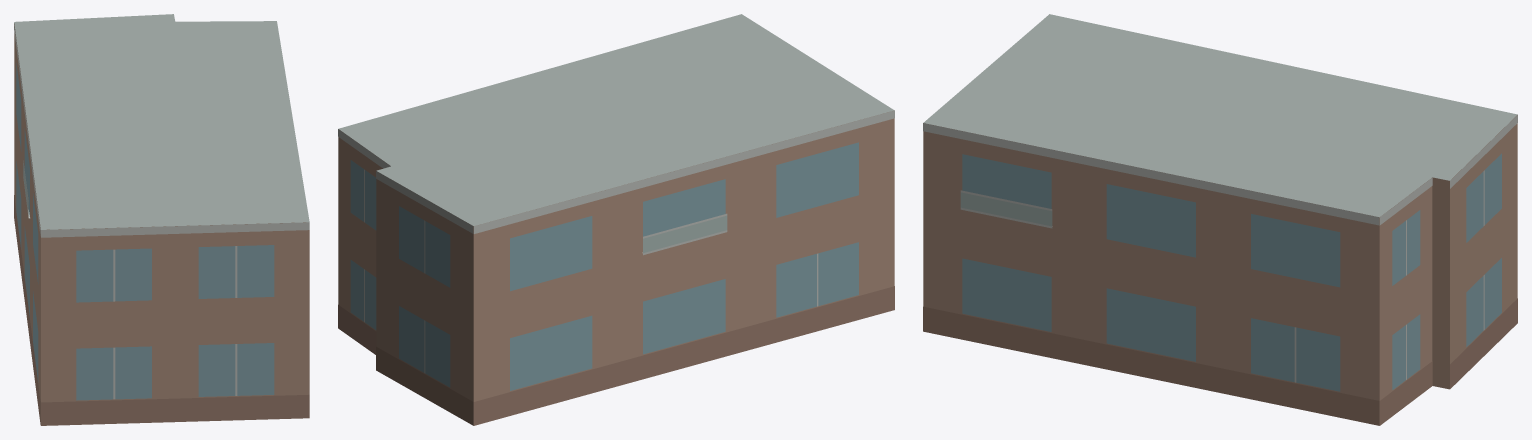
Rendered from survey-upis-32893114.glb.
The picture shows the model from 3 angles, left to right: view 1: azimuth 30°, elevation 25°; view 2: azimuth 150°, elevation 25°; view 3: azimuth 270°, elevation 25°; orthographic projection. The views are drawn at different scales.
Parts seen in each view (by area): view 1: survey-upis-32893114.tmp; view 2: survey-upis-32893114.tmp; view 3: survey-upis-32893114.tmp.
Boxes of the visible parts, left/top/right/bottom form: survey-upis-32893114.tmp: left=14, top=14, right=309, bottom=425; survey-upis-32893114.tmp: left=338, top=14, right=894, bottom=425; survey-upis-32893114.tmp: left=923, top=14, right=1517, bottom=425.
Size of the model in its own units: 12.76 by 6.1 by 15.77.
